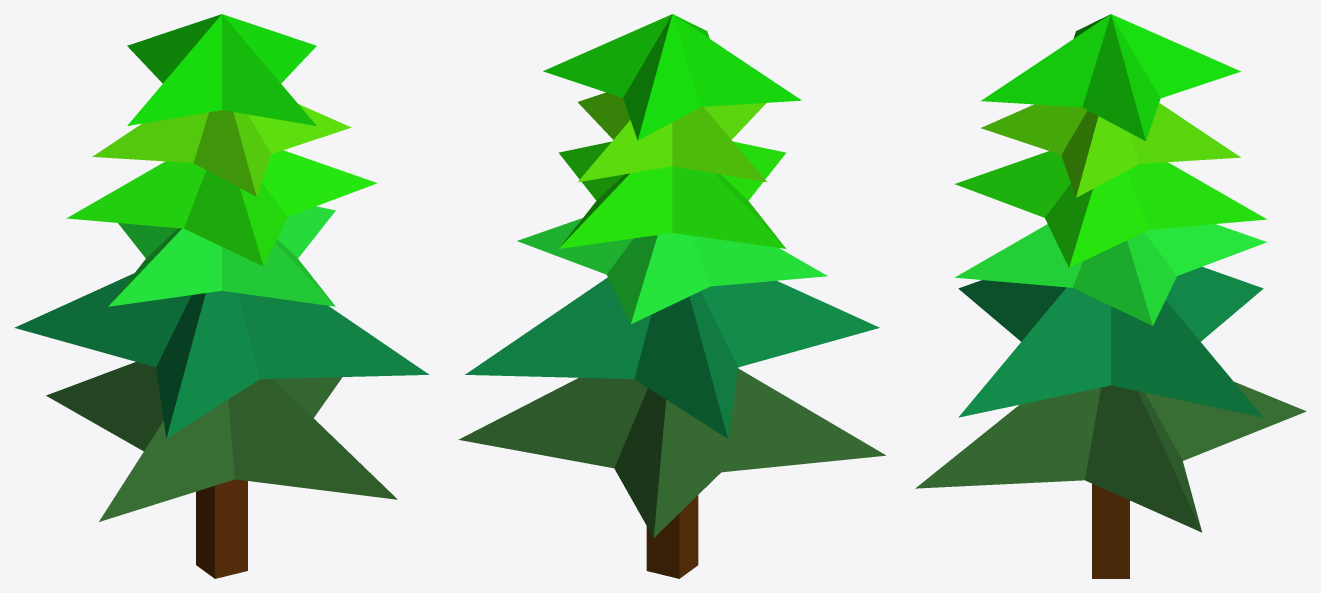
File: Sapin.fbx
3 renders of one model, left to right at view 1: azimuth 30°, elevation 25°; view 2: azimuth 150°, elevation 25°; view 3: azimuth 270°, elevation 25°, orthographic.
Parts seen in each view (by area): view 1: Branche02, Branche01, Branche04, Branche06, Branche03, Branche05, Tronc; view 2: Branche01, Branche02, Branche06, Branche04, Branche03, Branche05, Tronc; view 3: Branche02, Branche01, Branche04, Branche06, Branche03, Branche05, Tronc.
Part boxes in pixels (<box>): Branche02: <box>14,273,429,438</box>; Branche01: <box>46,362,397,521</box>; Branche04: <box>66,150,377,266</box>; Branche06: <box>127,14,316,125</box>; Branche03: <box>108,206,335,306</box>; Branche05: <box>92,104,351,196</box>; Tronc: <box>196,479,247,578</box>; Branche01: <box>458,368,885,537</box>; Branche02: <box>465,277,879,438</box>; Branche06: <box>543,14,801,140</box>; Branche04: <box>559,141,785,248</box>; Branche03: <box>517,218,827,323</box>; Branche05: <box>578,92,766,182</box>; Tronc: <box>646,495,698,578</box>; Branche02: <box>958,266,1263,417</box>; Branche01: <box>915,381,1306,532</box>; Branche04: <box>955,151,1267,267</box>; Branche06: <box>981,14,1240,141</box>; Branche03: <box>955,224,1266,325</box>; Branche05: <box>981,103,1240,197</box>; Tronc: <box>1092,483,1129,578</box>.
Size of the model in its own units: 1215 by 1905 by 1215.
